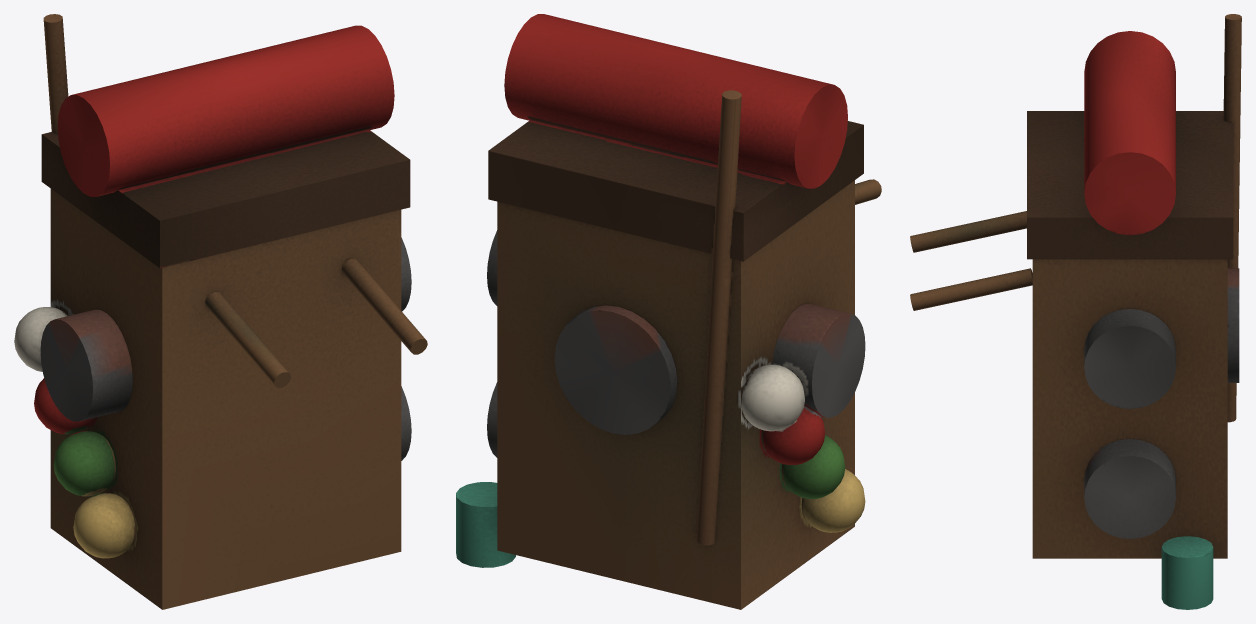
Rendered from npc_mascate.glb.
The picture shows the model from 3 angles, left to right: view 1: azimuth 30°, elevation 25°; view 2: azimuth 150°, elevation 25°; view 3: azimuth 270°, elevation 25°; orthographic projection. The views are drawn at different scales.
Parts seen in each view (by area): view 1: mascate_Spine2_peca; view 2: mascate_Spine2_peca; view 3: mascate_Spine2_peca.
Part boxes in pixels (x1,y1,x2,y2): mascate_Spine2_peca: [14, 14, 427, 609]; mascate_Spine2_peca: [456, 14, 881, 609]; mascate_Spine2_peca: [910, 14, 1241, 609].
Bounding box in the file's own units: 0.605 × 0.901 × 0.5782.
Materials: 2 (1 with a texture image).
